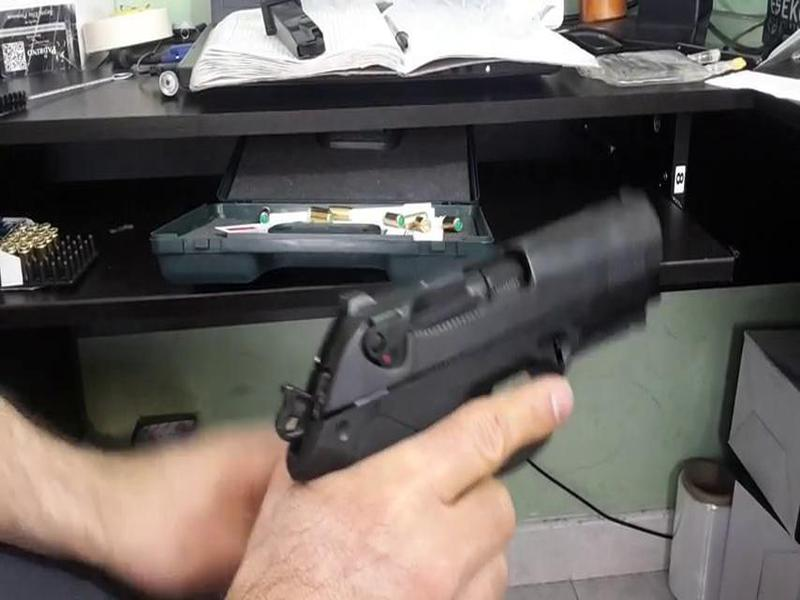Pistola: (264, 186, 660, 499)
